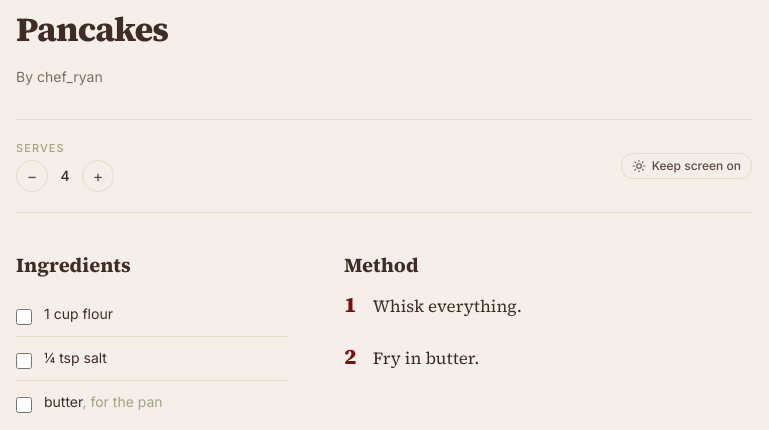
scaling › scales every amount with the servings
Step 1. Click the button named "More servings" → (98, 176), box [82,160,114,192]
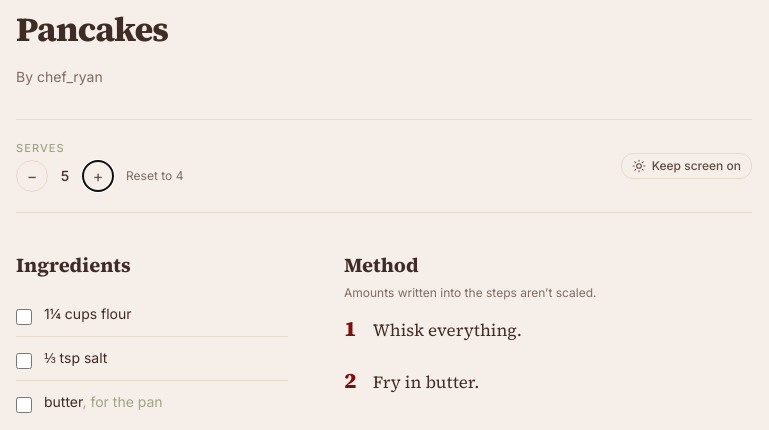
Step 2. Click the button named "More servings" → (98, 176), box [82,160,114,192]
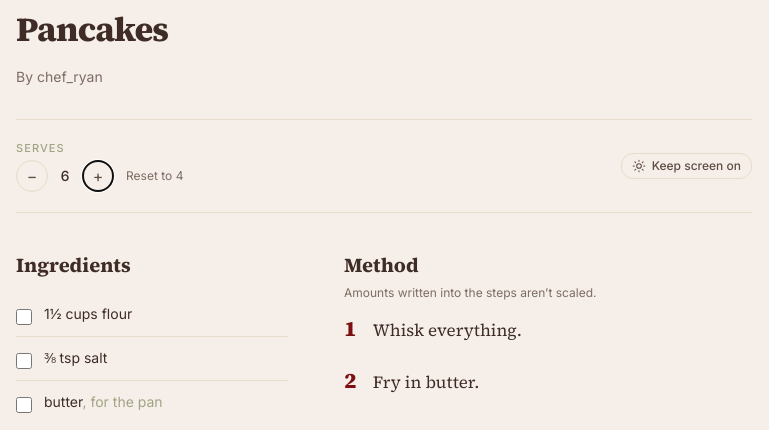
Expected: the text "butter, for the pan" is shown, [44,390,163,413]
Now the text "⅜ tsp salt" is shown, box [44,347,107,370]
Now the text "1½ cups flour" is shown, box [44,303,132,326]
